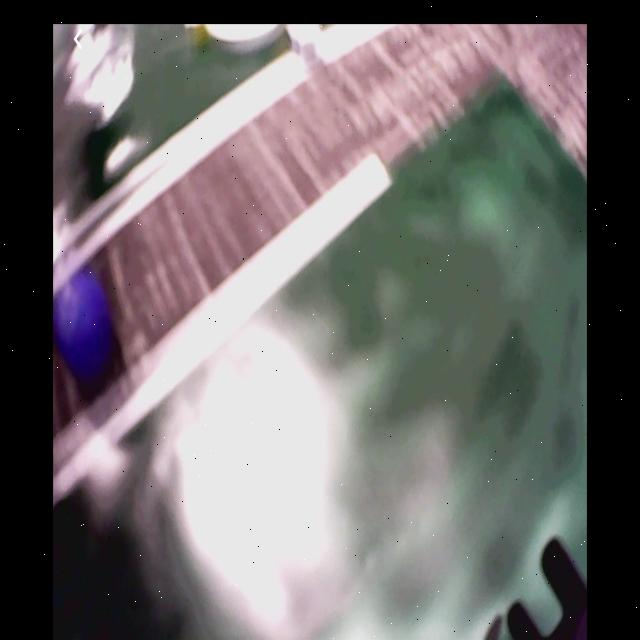ball: (56, 274, 110, 372)
